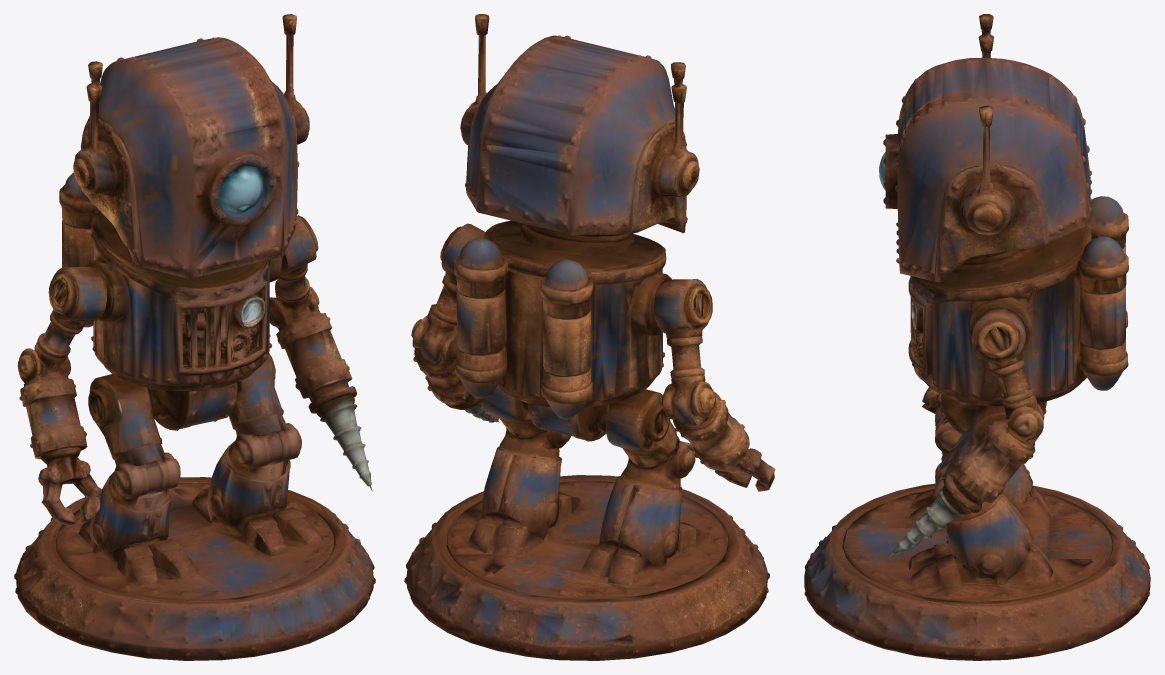
The model's file is modelo.glb.
3 renders of one model, left to right at view 1: azimuth 30°, elevation 25°; view 2: azimuth 150°, elevation 25°; view 3: azimuth 270°, elevation 25°, orthographic. The views are drawn at different scales.
Visible parts, largest first — view 1: material; view 2: material; view 3: material.
Boxes of the visible parts, x1=… form: material: x1=14, y1=14, x2=375, y2=660; material: x1=404, y1=14, x2=775, y2=660; material: x1=804, y1=14, x2=1150, y2=660.
Size of the model in its own units: 0.643 by 1.03 by 0.611.
Materials: 1 (1 with a texture image).
